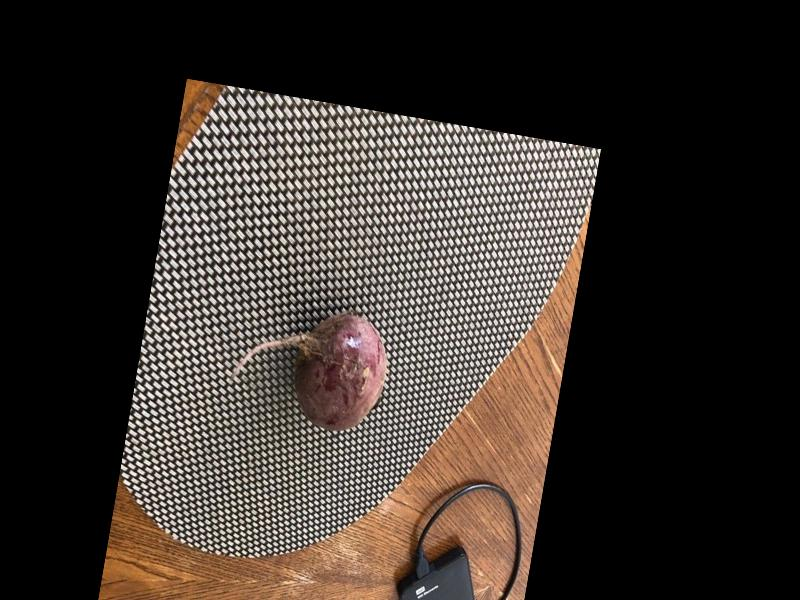Beet: (224, 295, 394, 436)
